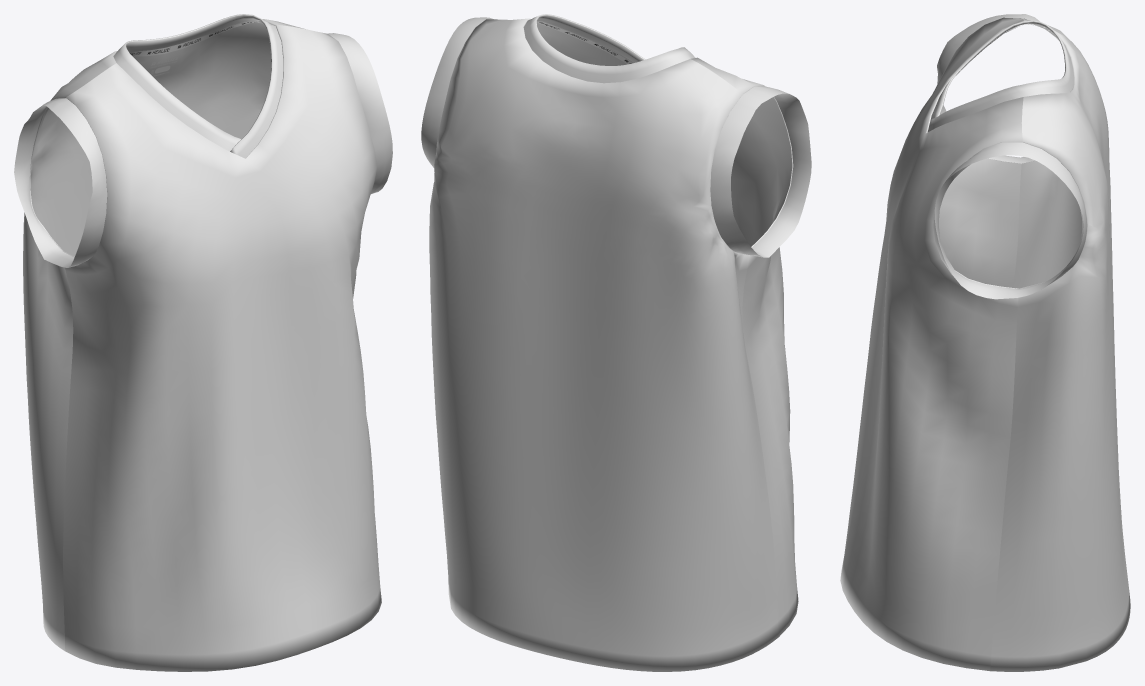
3 renders of one model, left to right at view 1: azimuth 30°, elevation 25°; view 2: azimuth 150°, elevation 25°; view 3: azimuth 270°, elevation 25°, orthographic. The views are drawn at different scales.
Visible parts, largest first — view 1: basketball_top_front, basketball_top_inside, basketball_top_back, basketball_top_collar, basketball_top_sleeve_right, basketball_top_sleeve_left, basketball_top_sweatband; view 2: basketball_top_back, basketball_top_front, basketball_top_inside, basketball_top_sleeve_right, basketball_top_collar, basketball_top_sleeve_left; view 3: basketball_top_front, basketball_top_back, basketball_top_inside, basketball_top_sleeve_left, basketball_top_collar, basketball_top_sleeve_right.
Boxes of the visible parts, x1=… form: basketball_top_front: x1=63, y1=24, x2=381, y2=671; basketball_top_inside: x1=30, y1=20, x2=271, y2=256; basketball_top_back: x1=23, y1=19, x2=305, y2=650; basketball_top_collar: x1=113, y1=14, x2=283, y2=158; basketball_top_sleeve_right: x1=14, y1=98, x2=107, y2=267; basketball_top_sleeve_left: x1=328, y1=33, x2=392, y2=193; basketball_top_sweatband: x1=129, y1=21, x2=261, y2=56; basketball_top_back: x1=429, y1=18, x2=778, y2=671; basketball_top_front: x1=476, y1=18, x2=798, y2=636; basketball_top_inside: x1=537, y1=21, x2=792, y2=246; basketball_top_sleeve_right: x1=710, y1=86, x2=811, y2=257; basketball_top_collar: x1=523, y1=14, x2=695, y2=83; basketball_top_sleeve_left: x1=421, y1=17, x2=493, y2=167; basketball_top_front: x1=840, y1=17, x2=1023, y2=670; basketball_top_back: x1=990, y1=18, x2=1130, y2=671; basketball_top_inside: x1=939, y1=24, x2=1082, y2=288; basketball_top_sleeve_left: x1=933, y1=142, x2=1087, y2=299; basketball_top_collar: x1=927, y1=20, x2=1074, y2=132; basketball_top_sleeve_right: x1=937, y1=14, x2=1059, y2=163.
Bounding box in the file's own units: 0.3943 × 0.6925 × 0.3292.
Materials: 4 (2 with a texture image).
